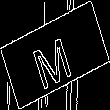M_N: (31, 23, 79, 87)
